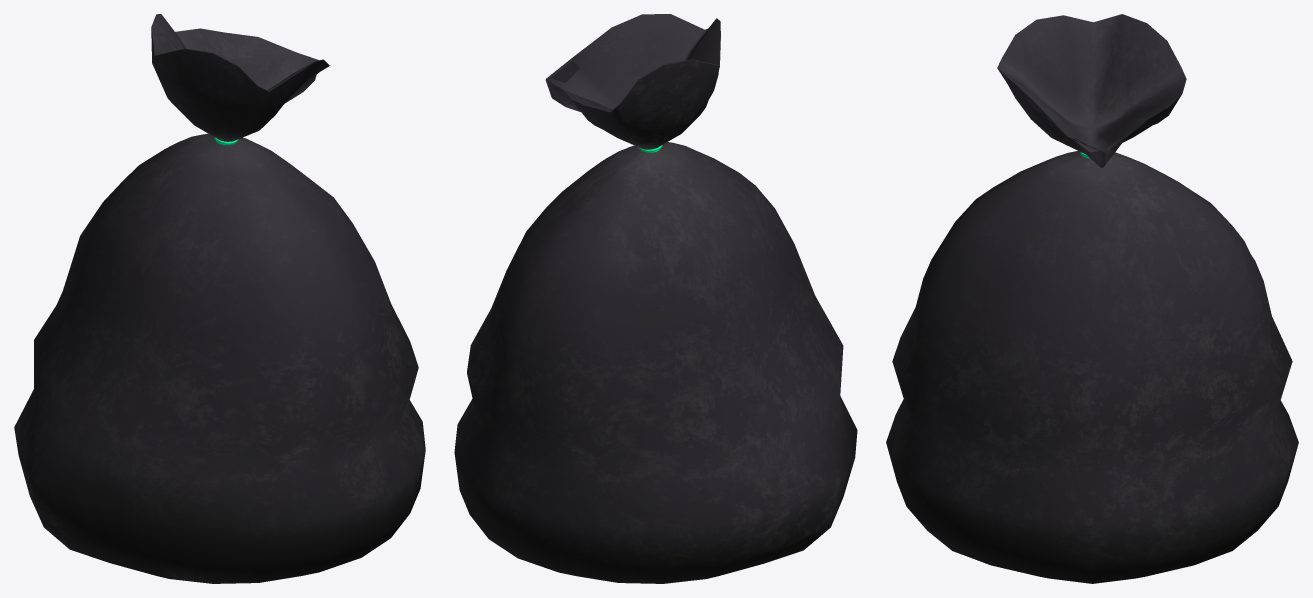
File: Asset Trash Bag v2.fbx
3 views of the same model, side by side, from view 1: azimuth 30°, elevation 25°; view 2: azimuth 150°, elevation 25°; view 3: azimuth 270°, elevation 25° (orthographic). The views are drawn at different scales.
Visible parts, largest first — view 1: Trash; view 2: Trash; view 3: Trash.
Boxes of the visible parts, x1,y1,x2,y2 form: Trash: (14,14,425,583); Trash: (454,14,857,583); Trash: (886,14,1298,583).
Size of the model in its own units: 14.13 by 18.24 by 14.12.
